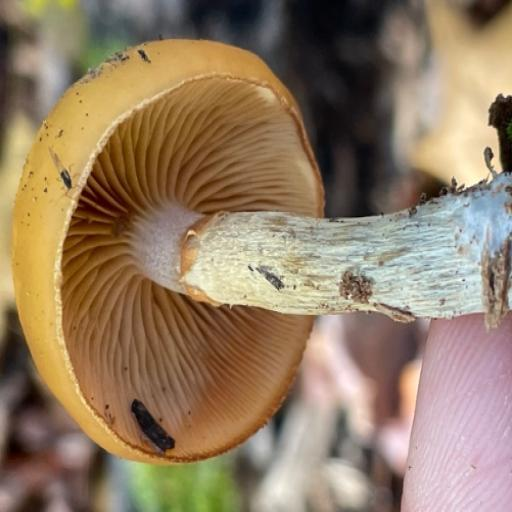mushroom: (9, 32, 424, 478)
